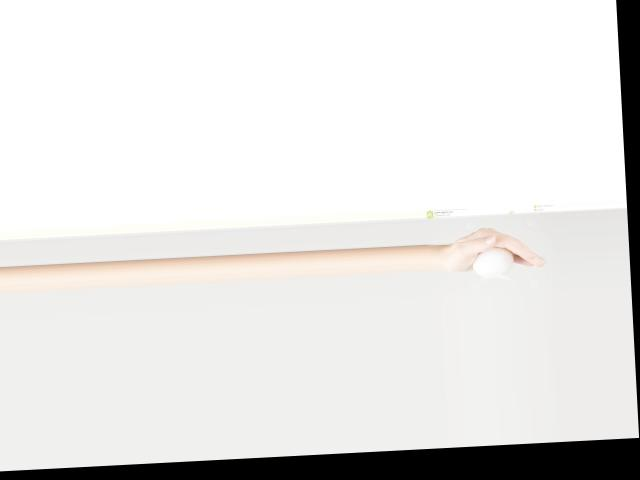egg: (472, 246, 515, 276)
